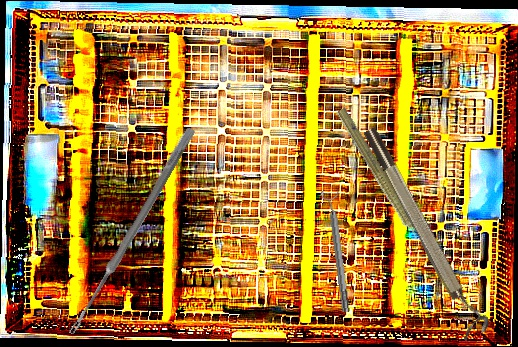Fixation Ring: (360, 120, 493, 342), (320, 188, 355, 314)
Handpiece: (330, 106, 430, 253)
Surgical Spoon: (67, 126, 196, 337)
